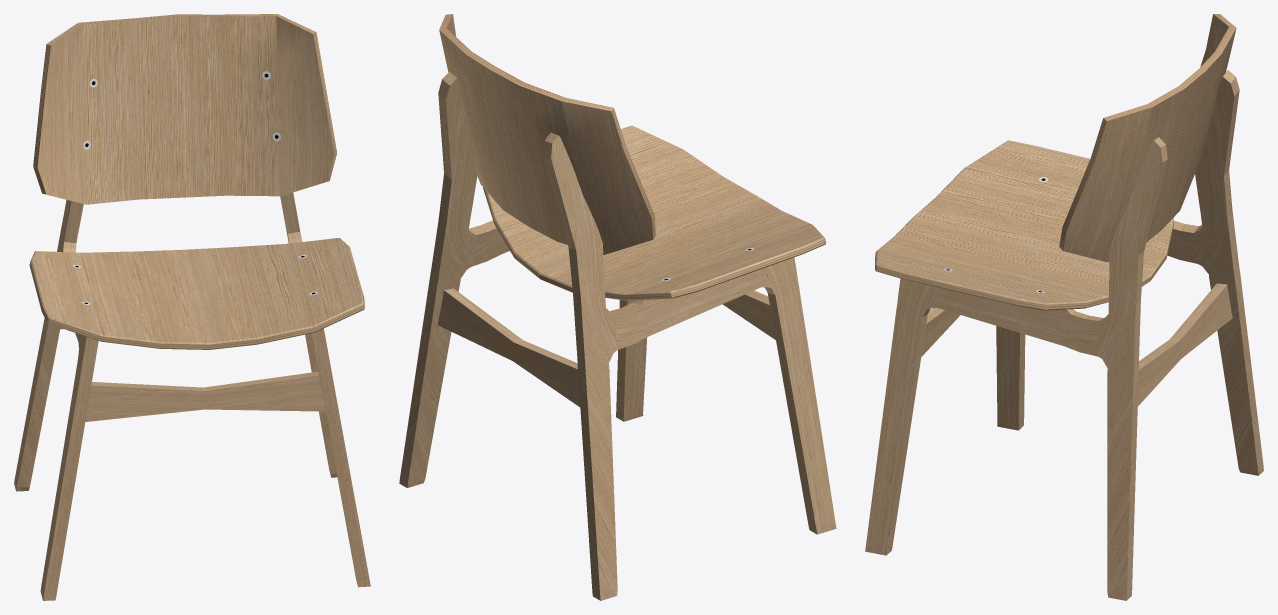
The model's file is furniture4.gltf.
3 views of the same model, side by side, from view 1: azimuth 30°, elevation 25°; view 2: azimuth 150°, elevation 25°; view 3: azimuth 270°, elevation 25° (orthographic). The views are drawn at different scales.
Parts seen in each view (by area): view 1: Plane.001, Plane, ChairSoborgOak, Cube.001; view 2: ChairSoborgOak, Plane, Plane.001, Cube.002, Cube.001; view 3: ChairSoborgOak, Plane, Plane.001, Cube.002, Cube.001.
Part boxes in pixels (x1,y1,x2,y2): Plane.001: (33,14,336,204); Plane: (29,238,364,349); ChairSoborgOak: (14,192,370,600); Cube.001: (85,371,325,421); ChairSoborgOak: (399,72,836,600); Plane: (483,125,826,300); Plane.001: (439,14,655,255); Cube.002: (437,288,580,407); Cube.001: (722,290,775,339); ChairSoborgOak: (865,70,1263,600); Plane: (875,140,1173,310); Plane.001: (1059,14,1236,262); Cube.002: (1137,283,1232,406); Cube.001: (921,308,960,356).
Size of the model in its own units: 0.6636 by 0.8102 by 0.6234.
3 materials, 1 textured.
